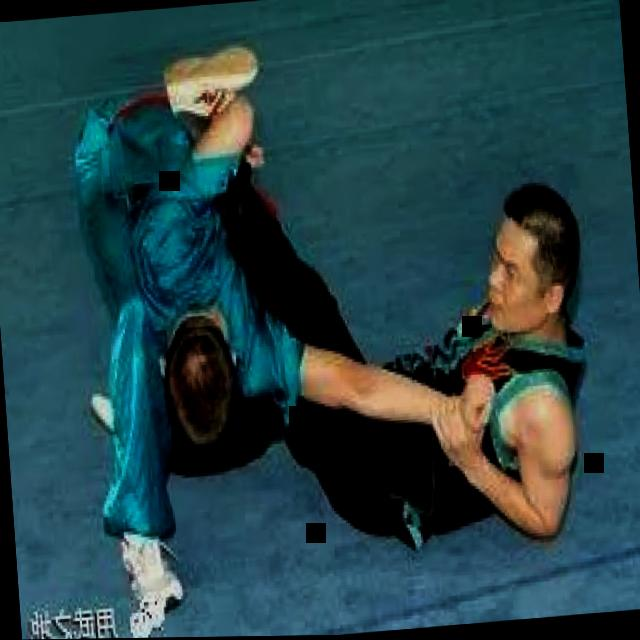Fall-Detected: (90, 23, 579, 594)
